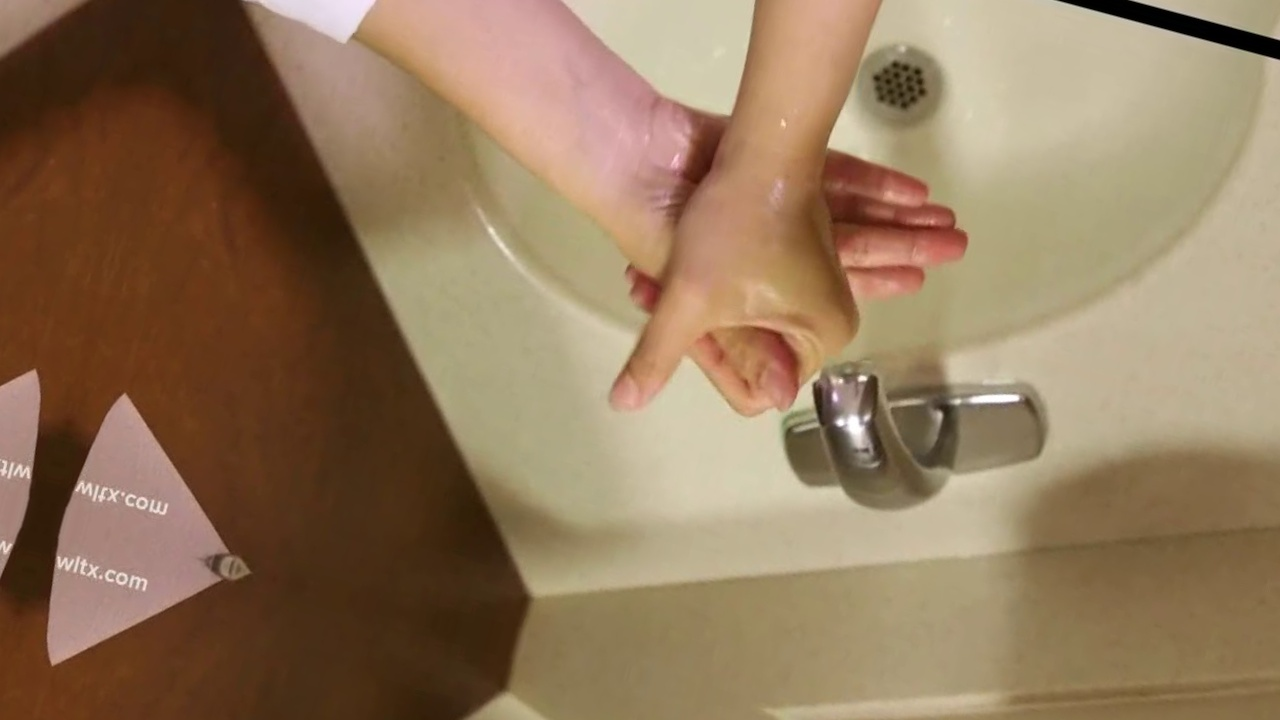washing hand: (555, 0, 1178, 617)
